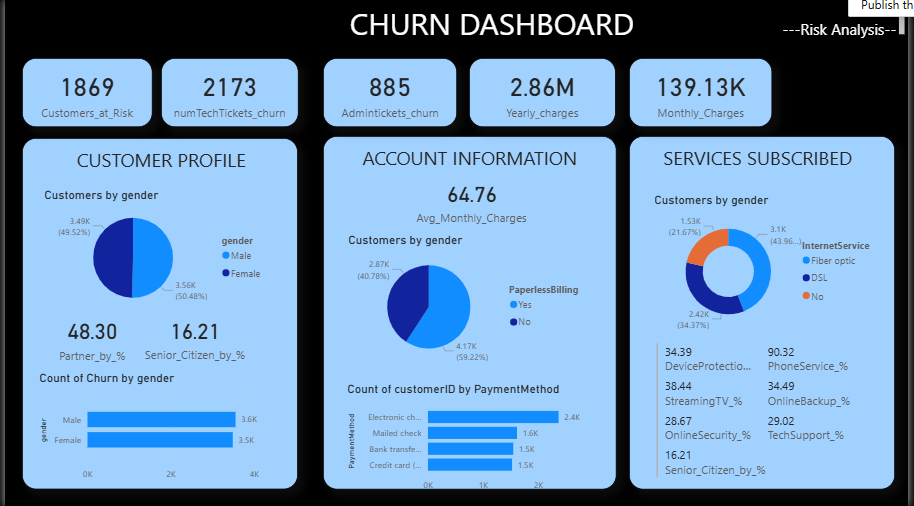

Layout of this report page (visuals, bound fields, positions):
{"tool":"powerbi","page":{"name":"Churn Analysis","canvas":[1280,720],"ordinal":1},"visuals":[{"type":"card","fields":{"Values":["01 Churn-Dataset.Avg_Monthly_Charges"]},"box":[566.3,245.9,189,79.4],"z":0,"group":"g2"},{"type":"card","fields":{"Values":["01 Churn-Dataset.Dependents_percent"]},"box":[57.6,435.9,131.3,86.6],"z":0,"group":"g1"},{"type":"multiRowCard","fields":{"Values":["01 Churn-Dataset.DeviceProtection_Percent","01 Churn-Dataset.PhoneService_Percent","01 Churn-Dataset.StreamingTV_Percent","01 Churn-Dataset.OnlineBackup_Percent","01 Churn-Dataset.OnlineSecurity_Percent","01 Churn-Dataset.TechSupport_Percent","01 Churn-Dataset.Senior_Citizen_Percent"]},"box":[918.7,482.4,313.1,204.9],"z":0,"group":"g3"},{"type":"textbox","box":[0,0,1279.7,72.1],"z":1000},{"type":"pieChart","title":"Customers by gender","fields":{"Category":["01 Churn-Dataset.gender"],"Y":["CountNonNull(01 Churn-Dataset.customerID)"]},"box":[50.1,267.7,326.1,178.9],"z":1000,"group":"g1"},{"type":"donutChart","title":"Customers by gender","fields":{"Y":["CountNonNull(01 Churn-Dataset.Churn)"],"Category":["01 Churn-Dataset.InternetService"]},"box":[915.8,274.6,326.1,203.4],"z":1000,"group":"g3"},{"type":"pieChart","title":"Customers by gender","fields":{"Category":["01 Churn-Dataset.PaperlessBilling"],"Y":["CountNonNull(01 Churn-Dataset.customerID)"]},"box":[481.2,332.9,350.6,190.4],"z":1000,"group":"g2"},{"type":"textbox","box":[24.5,197.7,391,497.8],"z":2000},{"type":"card","fields":{"Values":["01 Churn-Dataset.Senior_Citizen_Percent"]},"box":[184.3,433.6,170.2,90.9],"z":2000,"group":"g1"},{"type":"group","id":"g1","title":"Group 1","box":[43.3,267.7,332.9,423.6],"z":3000},{"type":"clusteredBarChart","fields":{"Y":["CountNonNull(01 Churn-Dataset.Churn)"],"Category":["01 Churn-Dataset.gender"]},"box":[43.3,526.8,330.4,164.5],"z":3000,"group":"g1"},{"type":"clusteredBarChart","fields":{"Y":["CountNonNull(01 Churn-Dataset.customerID)"],"Category":["01 Churn-Dataset.PaymentMethod"]},"box":[480.4,543.8,354.9,164.5],"z":3000,"group":"g2"},{"type":"textbox","box":[884.4,194.8,376.6,500.6],"z":4000},{"type":"textbox","box":[450.1,194.8,415.5,500.6],"z":5000},{"type":"group","id":"g2","title":"Group 1","box":[480.4,245.9,354.9,462.3],"z":6000},{"type":"group","id":"g3","title":"Group 1","box":[915.8,274.6,326.1,412.6],"z":7000},{"type":"card","fields":{"Values":["01 Churn-Dataset.Customers_atrisk"]},"box":[24.5,83.7,184.7,98.1],"z":8000},{"type":"card","fields":{"Values":["01 Churn-Dataset.numTechTickets_churn"]},"box":[220.7,83.7,194.8,98.1],"z":9000},{"type":"card","fields":{"Values":["01 Churn-Dataset.Admintickets_churn"]},"box":[450.1,83.7,190.4,98.1],"z":10000},{"type":"card","fields":{"Values":["01 Churn-Dataset.Monthly_Charges"]},"box":[884.4,83.7,203.4,98.1],"z":11000},{"type":"card","fields":{"Values":["01 Churn-Dataset.Total_charges"]},"box":[657.9,83.7,207.8,98.1],"z":12000}]}

Visuals, with their boxes in screenshot pixels (x1, y1, x2, y2), scaled from the page's 1280x720 canvas onto the 914x506 screenshot:
card - 01 Churn-Dataset.Avg_Monthly_Charges: l=404, t=173, r=539, b=229
card - 01 Churn-Dataset.Dependents_percent: l=41, t=306, r=135, b=367
multiRowCard - 01 Churn-Dataset.DeviceProtection_Percent x 01 Churn-Dataset.PhoneService_Percent: l=656, t=339, r=880, b=483
textbox: l=0, t=0, r=913, b=51
"Customers by gender" pieChart: l=36, t=188, r=269, b=314
"Customers by gender" donutChart: l=654, t=193, r=887, b=336
"Customers by gender" pieChart: l=344, t=234, r=594, b=368
textbox: l=17, t=139, r=297, b=489
card - 01 Churn-Dataset.Senior_Citizen_Percent: l=132, t=305, r=253, b=369
"Group 1" group: l=31, t=188, r=269, b=486
clusteredBarChart - CountNonNull(01 Churn-Dataset.Churn) x 01 Churn-Dataset.gender: l=31, t=370, r=267, b=486
clusteredBarChart - CountNonNull(01 Churn-Dataset.customerID) x 01 Churn-Dataset.PaymentMethod: l=343, t=382, r=596, b=498
textbox: l=632, t=137, r=900, b=489
textbox: l=321, t=137, r=618, b=489
"Group 1" group: l=343, t=173, r=596, b=498
"Group 1" group: l=654, t=193, r=887, b=483
card - 01 Churn-Dataset.Customers_atrisk: l=17, t=59, r=149, b=128
card - 01 Churn-Dataset.numTechTickets_churn: l=158, t=59, r=297, b=128
card - 01 Churn-Dataset.Admintickets_churn: l=321, t=59, r=457, b=128
card - 01 Churn-Dataset.Monthly_Charges: l=632, t=59, r=777, b=128
card - 01 Churn-Dataset.Total_charges: l=470, t=59, r=618, b=128
